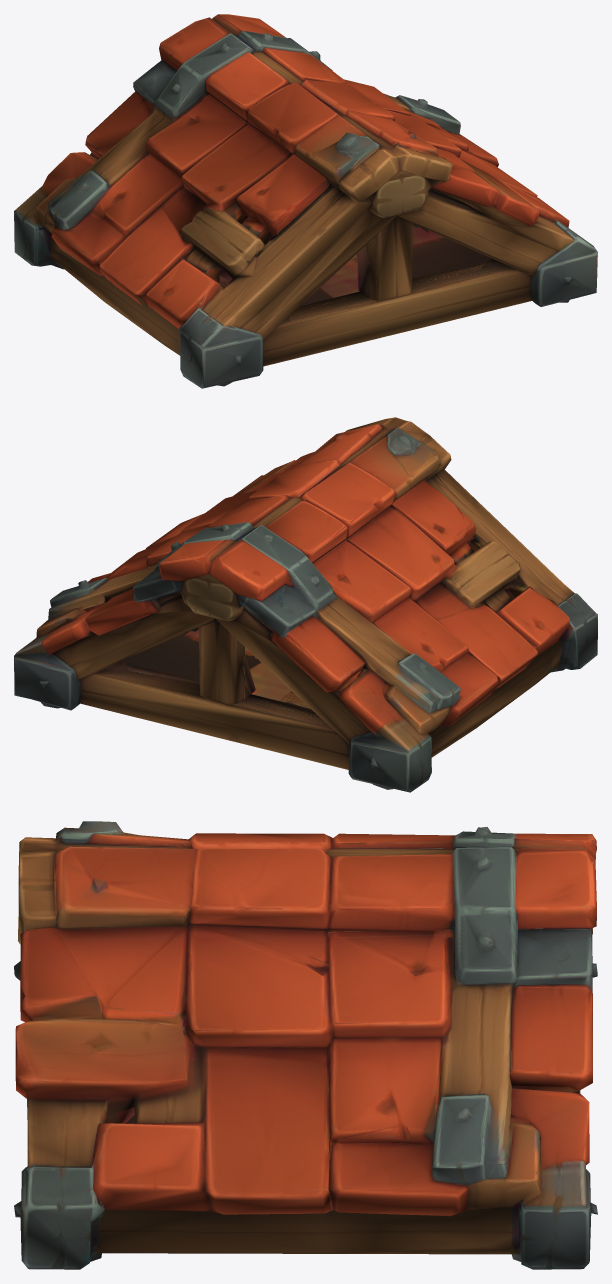
File: Roof1.fbx
3 renders of one model, top to bottom at view 1: azimuth 30°, elevation 25°; view 2: azimuth 150°, elevation 25°; view 3: azimuth 270°, elevation 25°, orthographic. The views are drawn at different scales.
Parts seen in each view (by area): view 1: Mesh_0; view 2: Mesh_0; view 3: Mesh_0.
Part boxes in pixels (bbox=[...]): Mesh_0: bbox=[14, 14, 597, 388]; Mesh_0: bbox=[14, 417, 597, 792]; Mesh_0: bbox=[14, 821, 597, 1269].
Size of the model in its own units: 191 by 89.72 by 159.
1 material, 1 textured.
